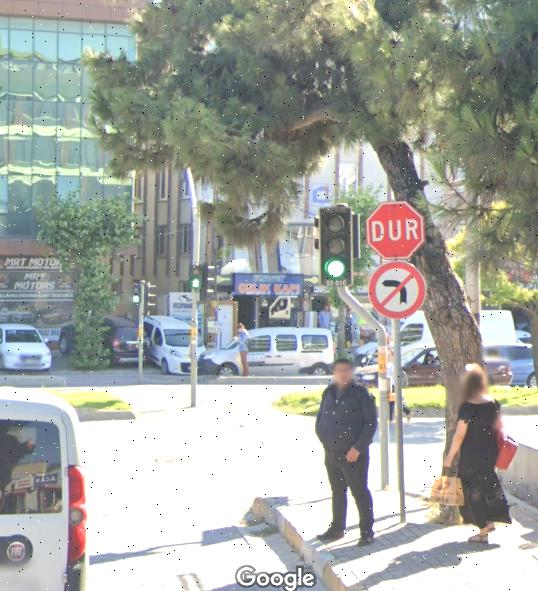greenlight: (319, 203, 351, 286)
leftturnsareforbidden: (372, 263, 423, 316)
stop: (370, 201, 426, 259)
